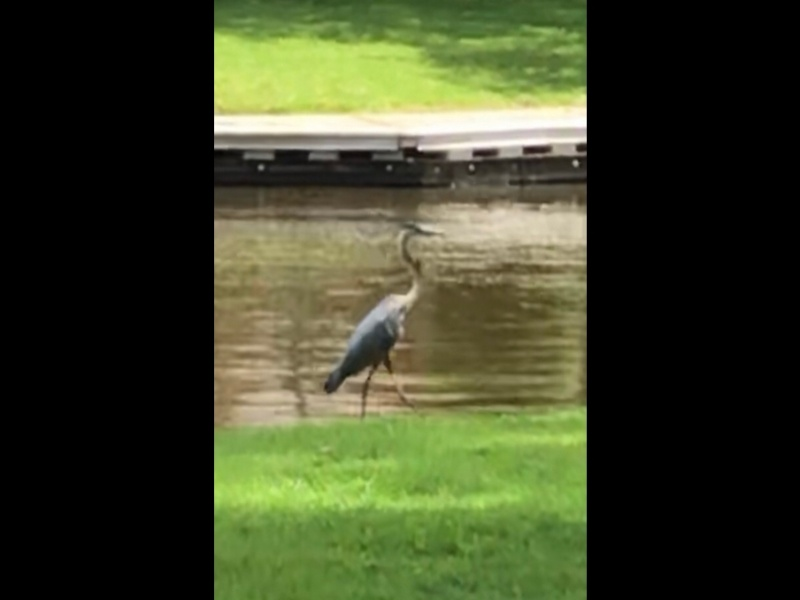heron: (321, 218, 448, 424)
